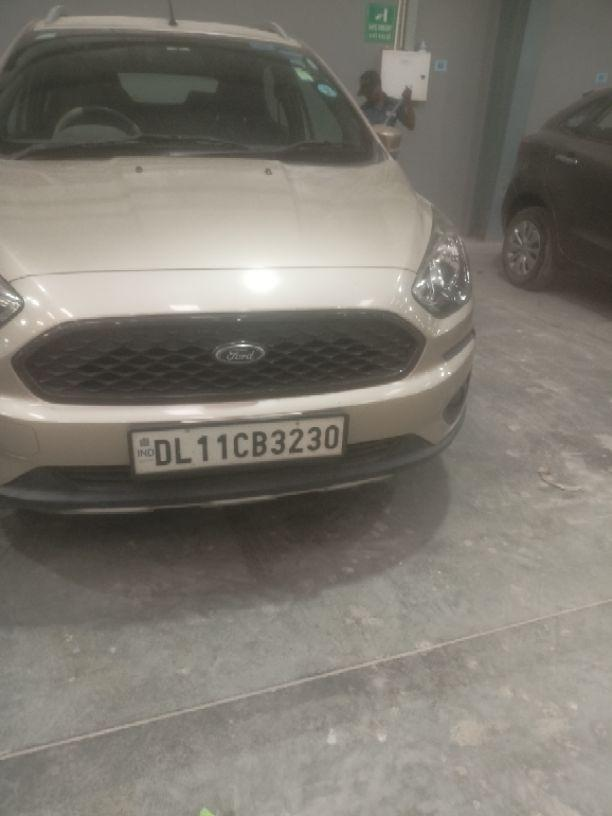license_plate: (127, 413, 347, 478)
